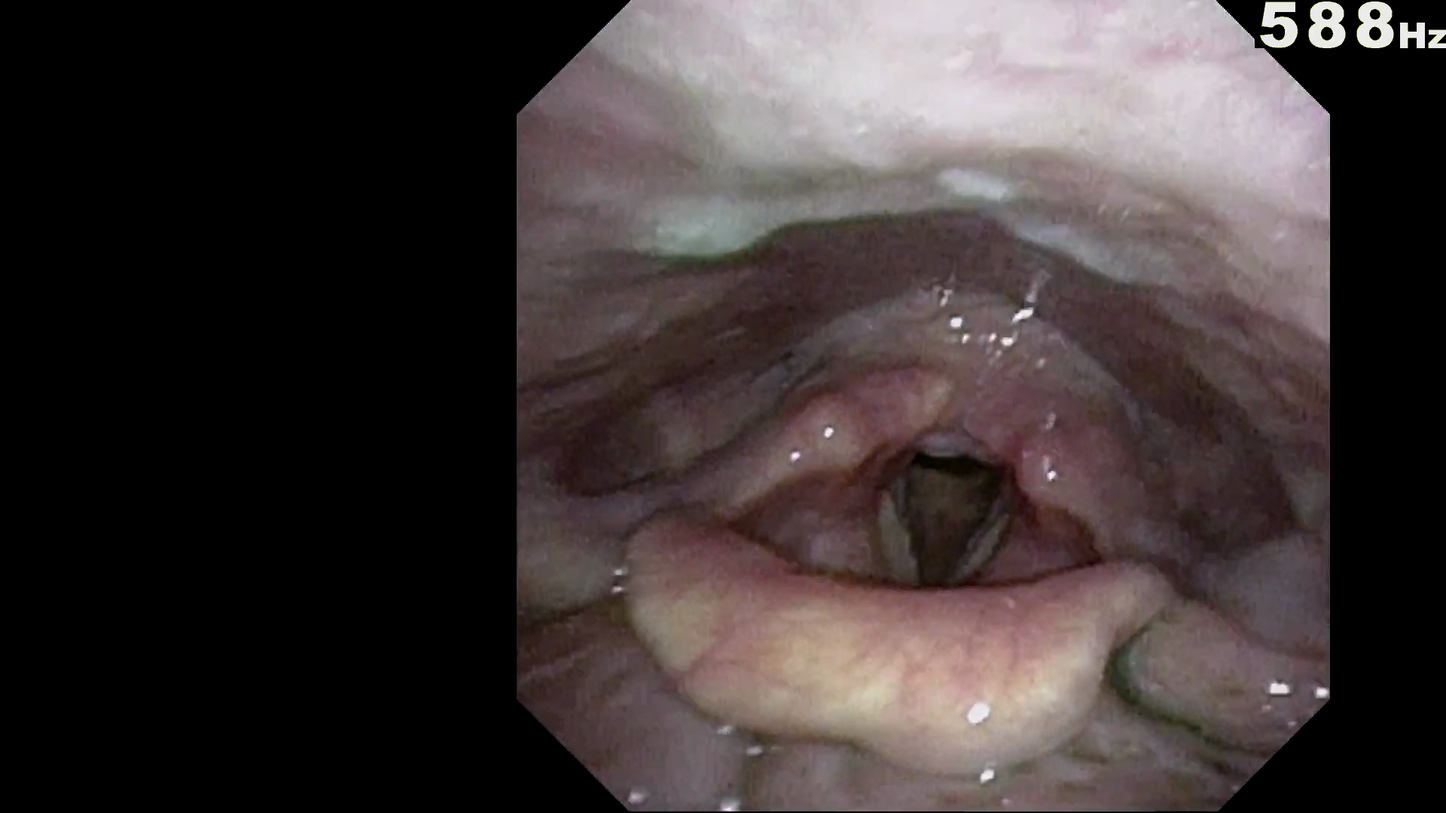epiglottis: (613, 545, 1157, 736)
trachea: (877, 448, 1001, 601)
